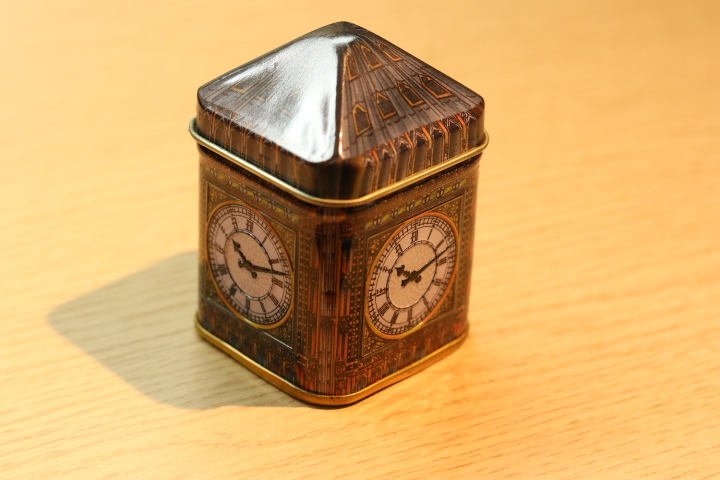Big Ben: (168, 18, 503, 417)
